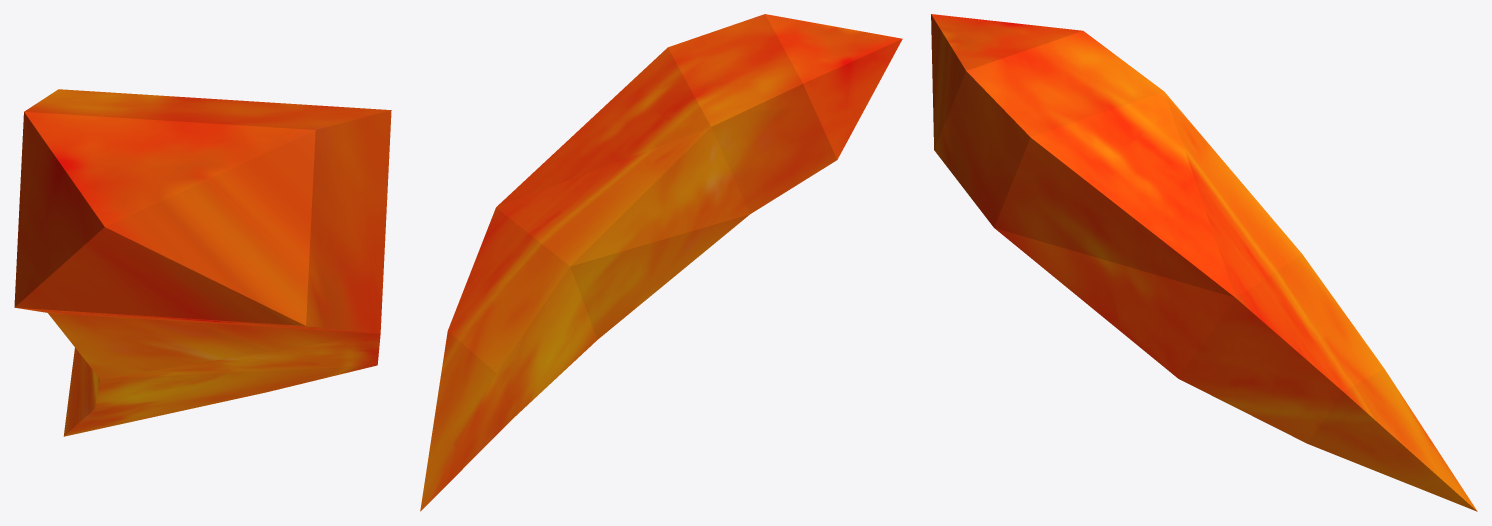
Rendered from Island_2_Tree_1_Leaf_1.gltf.
The picture shows the model from 3 angles, left to right: view 1: azimuth 30°, elevation 25°; view 2: azimuth 150°, elevation 25°; view 3: azimuth 270°, elevation 25°; orthographic projection. The views are drawn at different scales.
Visible parts, largest first — view 1: Island_2_Tree_1_Leaf_1; view 2: Island_2_Tree_1_Leaf_1; view 3: Island_2_Tree_1_Leaf_1.
Part boxes in pixels (left/top/right/bottom): Island_2_Tree_1_Leaf_1: left=14, top=89, right=391, bottom=436; Island_2_Tree_1_Leaf_1: left=420, top=14, right=902, bottom=511; Island_2_Tree_1_Leaf_1: left=931, top=14, right=1477, bottom=511.
Bounding box in the file's own units: 0.587 × 0.7412 × 0.9593.
Materials: 1 (1 with a texture image).
